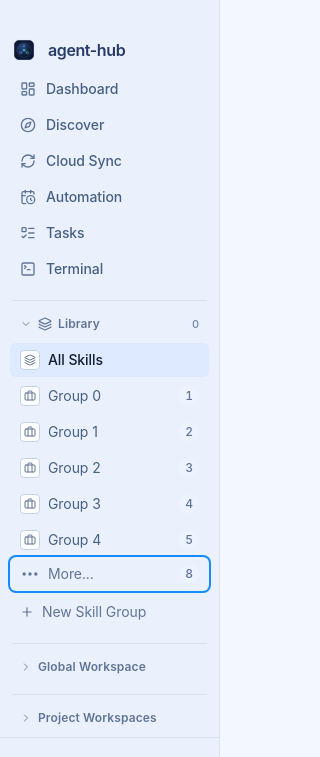
Test: expands the same sidebar list and collapses it with focus preserved in en
What coordinates should you click on to do the following:
click the button "More... 8"
I would click on:
 (110, 574)
Its box is [10,557,209,591].
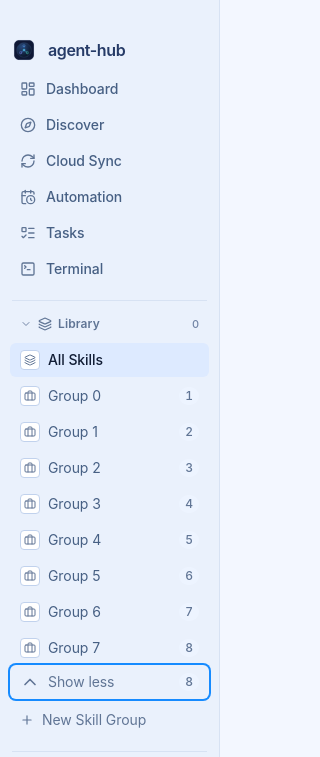
Expected: the button "Show less 8" is expanded
What coordinates should you click on to do the following:
click the button "Show less 8"
I would click on:
 (110, 682)
Its box is [10,665,209,699].
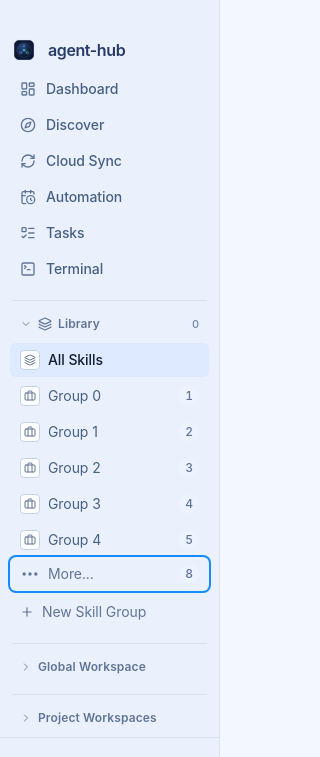
Expected: the button "More... 8" is collapsed, [10,557,209,591]
